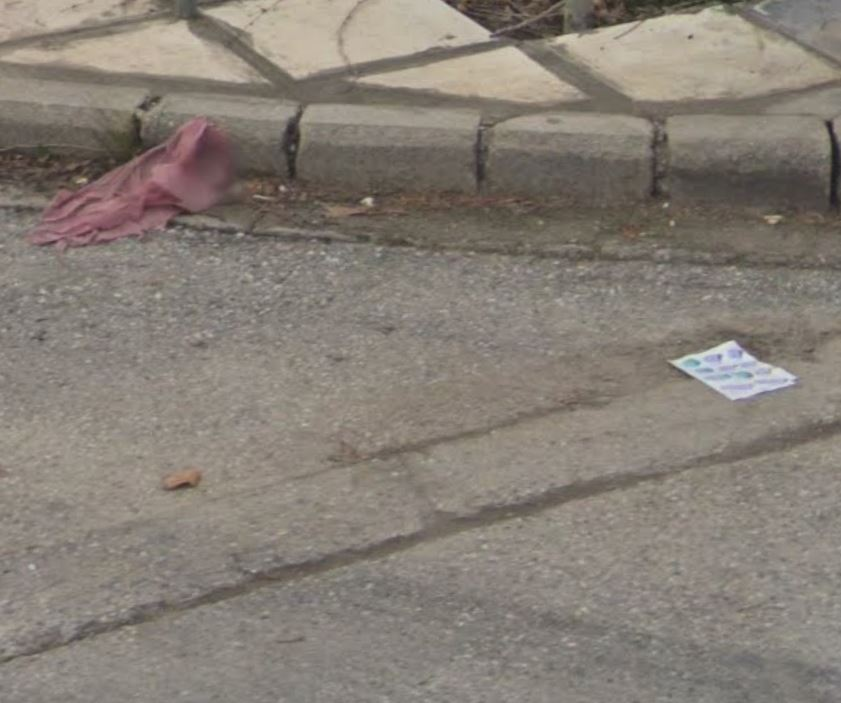trash: (25, 113, 291, 263), (661, 318, 812, 408)
